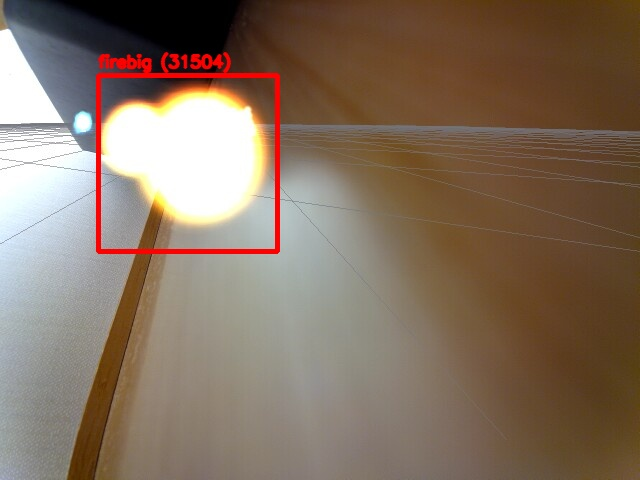firebig: (98, 75, 277, 251)
